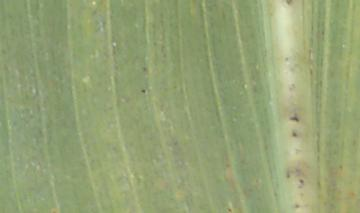tarspot: (287, 114, 300, 121), (293, 201, 301, 210), (291, 130, 298, 138), (139, 87, 148, 93), (286, 171, 292, 180), (141, 65, 148, 72), (298, 177, 304, 185), (286, 1, 293, 7), (227, 206, 233, 213), (283, 55, 289, 62)
